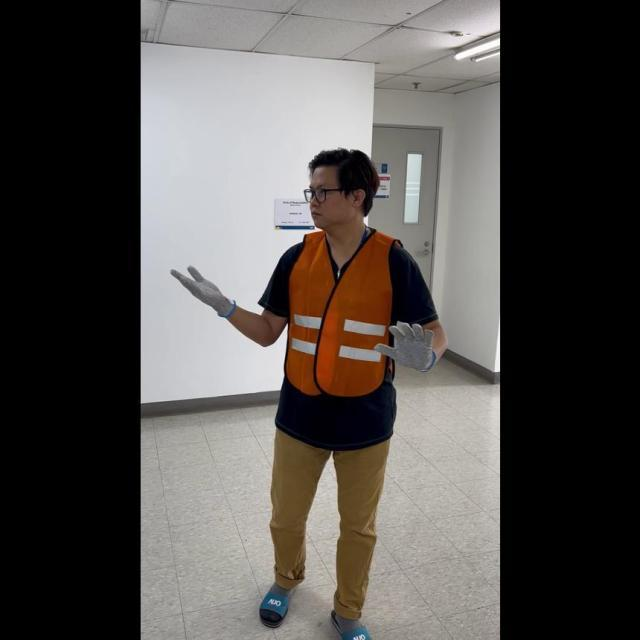gloved_hand: (171, 260, 237, 319), (375, 316, 436, 373)
